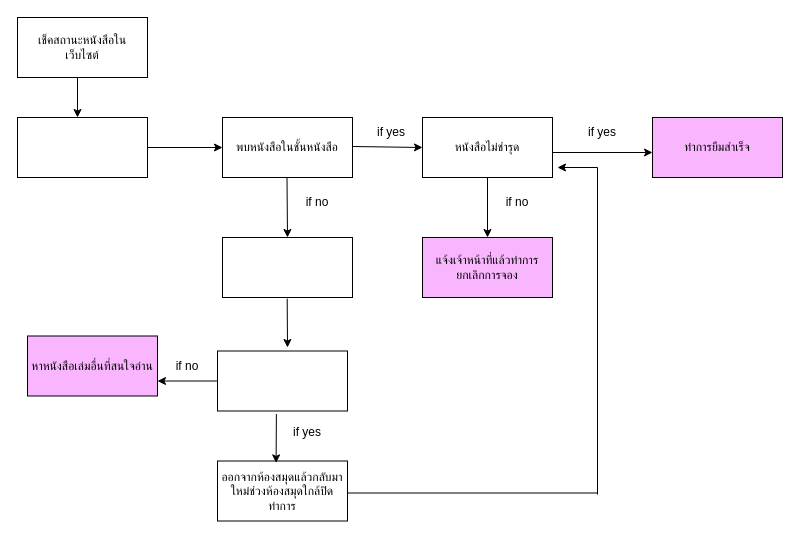
Some shapes in this 800 by 539 pixel diagram are drawn without their labels. The shapes that lost their labels are listed below. From the top down, each one's centre as x and y in pixels, then its label:
At pixel 82 147: "เข้าไปห้องสมุด".
At pixel 287 267: "มีนักศึกษาท่านอื่นหยิบไปอ่านภายในห้องสมุด".
At pixel 282 380: "ทำการยืมหนังสือล่วงหน้า".
